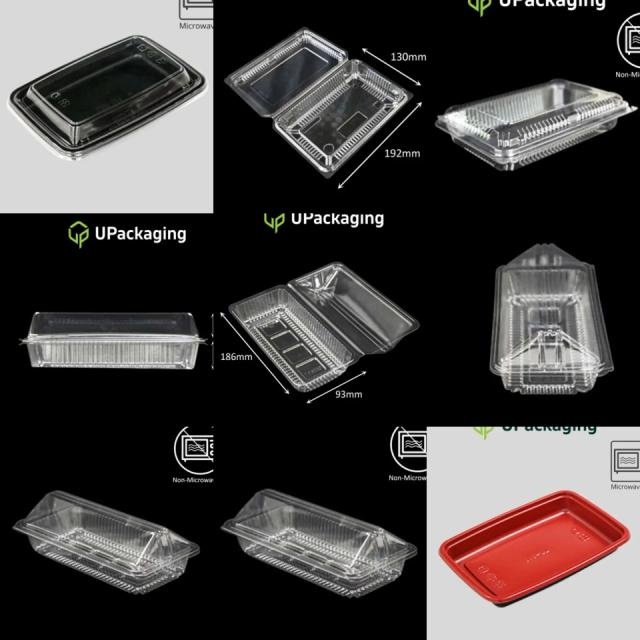Single-Use-Plastic: (226, 29, 412, 178), (229, 262, 419, 392), (9, 35, 205, 159), (439, 490, 630, 604), (222, 489, 416, 598), (14, 491, 199, 593), (490, 244, 614, 393), (435, 79, 636, 170), (22, 312, 204, 368)
